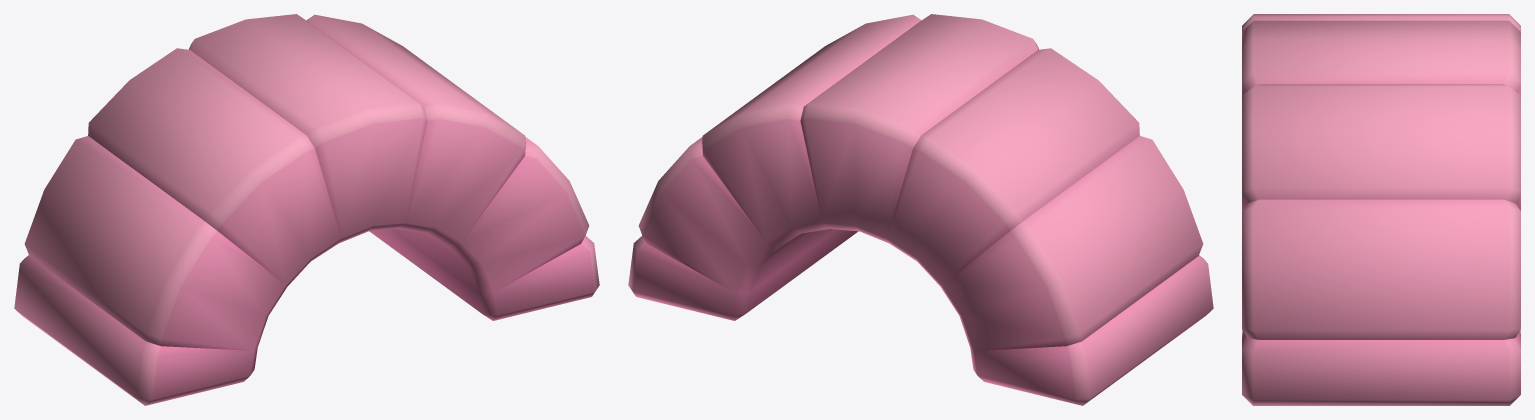
File: tire_pink.glb
3 renders of one model, left to right at view 1: azimuth 30°, elevation 25°; view 2: azimuth 150°, elevation 25°; view 3: azimuth 270°, elevation 25°, orthographic. The views are drawn at different scales.
Visible parts, largest first — view 1: tire_pink; view 2: tire_pink; view 3: tire_pink.
Part boxes in pixels (left/top/right/bottom): tire_pink: left=14, top=14, right=599, bottom=405; tire_pink: left=628, top=14, right=1213, bottom=405; tire_pink: left=1242, top=14, right=1520, bottom=405.
Bounding box in the file's own units: 0.8 × 0.4 × 0.4.
1 material, 1 textured.
